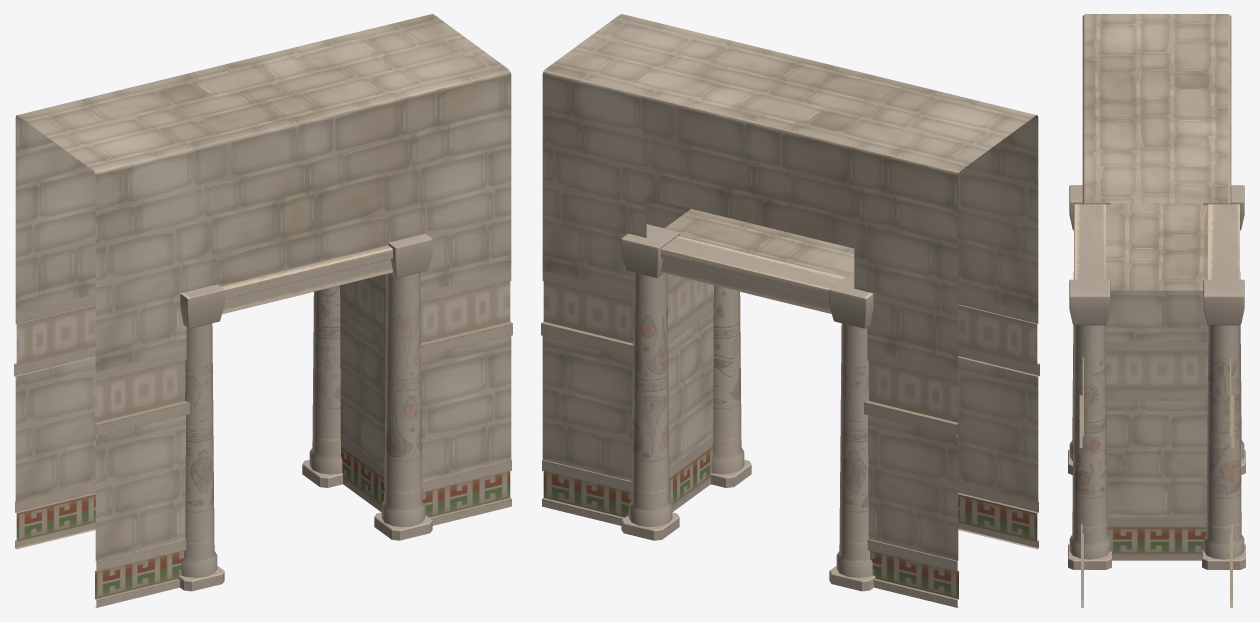
Rendered from SM_Env_Wall_Door_C.fbx.
3 renders of one model, left to right at view 1: azimuth 30°, elevation 25°; view 2: azimuth 150°, elevation 25°; view 3: azimuth 270°, elevation 25°, orthographic. The views are drawn at different scales.
Visible parts, largest first — view 1: Wall_Door_C; view 2: Wall_Door_C; view 3: Wall_Door_C.
Part boxes in pixels (x1,y1,x2,y2): Wall_Door_C: [14, 14, 512, 607]; Wall_Door_C: [541, 14, 1039, 607]; Wall_Door_C: [1068, 14, 1245, 607].
Size of the model in its own units: 300 by 300 by 119.
2 materials, 2 textured.
